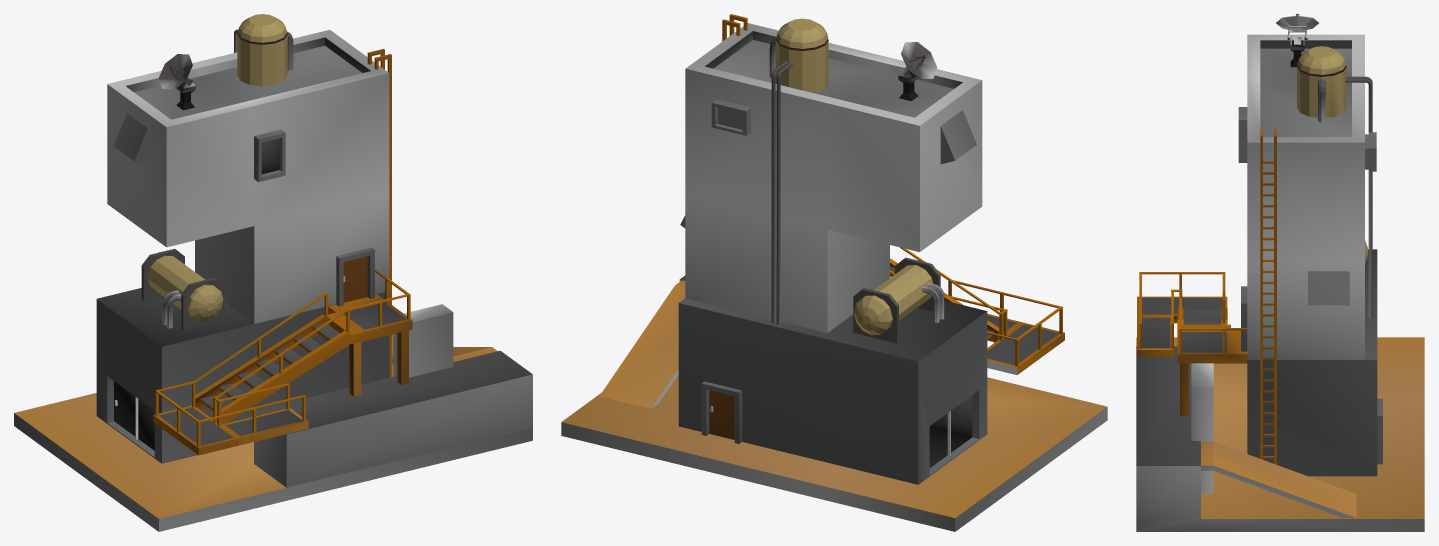
The model's file is edificacao4.fbx.
3 views of the same model, side by side, from view 1: azimuth 30°, elevation 25°; view 2: azimuth 150°, elevation 25°; view 3: azimuth 270°, elevation 25° (orthographic). The views are drawn at different scales.
Visible parts, largest first — view 1: edificacao4; view 2: edificacao4; view 3: edificacao4.
Boxes of the visible parts, x1,y1,x2,y2 form: edificacao4: [14, 14, 532, 531]; edificacao4: [561, 14, 1107, 531]; edificacao4: [1136, 14, 1424, 531].
Bounding box in the file's own units: 1775 × 1795 × 1190.
